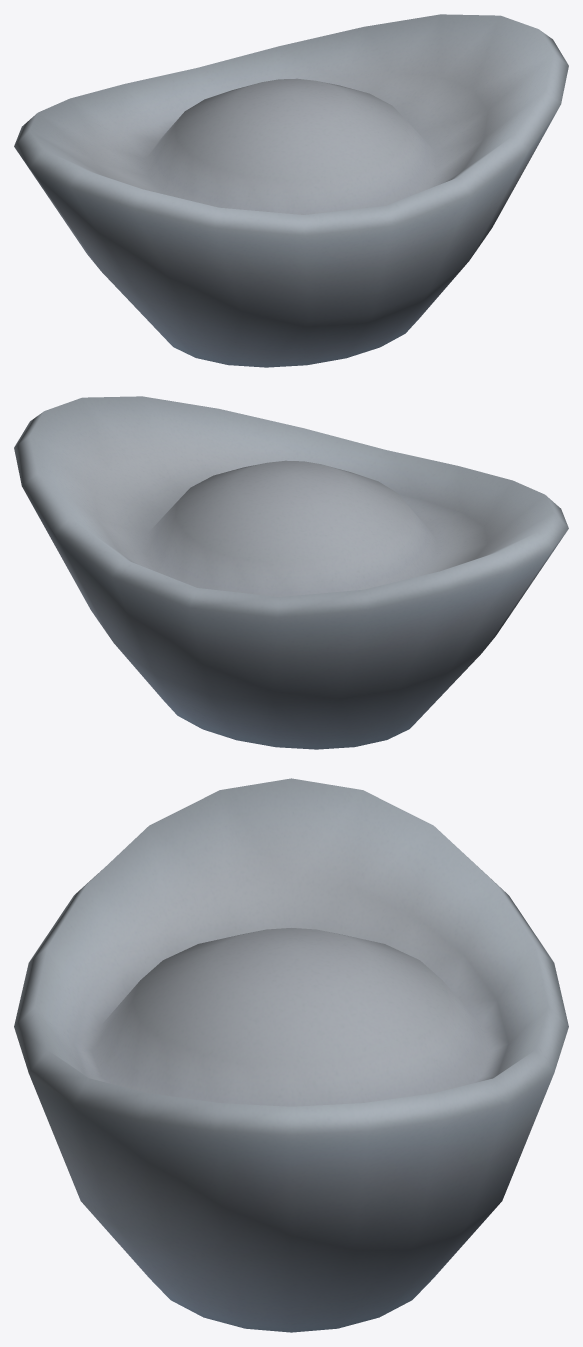
File: ChineseSilver.FBX
3 renders of one model, top to bottom at view 1: azimuth 30°, elevation 25°; view 2: azimuth 150°, elevation 25°; view 3: azimuth 270°, elevation 25°, orthographic. The views are drawn at different scales.
Parts seen in each view (by area): view 1: ChineseSilver; view 2: ChineseSilver; view 3: ChineseSilver.
Part boxes in pixels (x1,y1,x2,y2): ChineseSilver: [14, 14, 568, 367]; ChineseSilver: [14, 396, 568, 749]; ChineseSilver: [14, 778, 568, 1332].
Size of the model in its own units: 95.01 by 39.69 by 64.13.
1 material, 1 textured.
